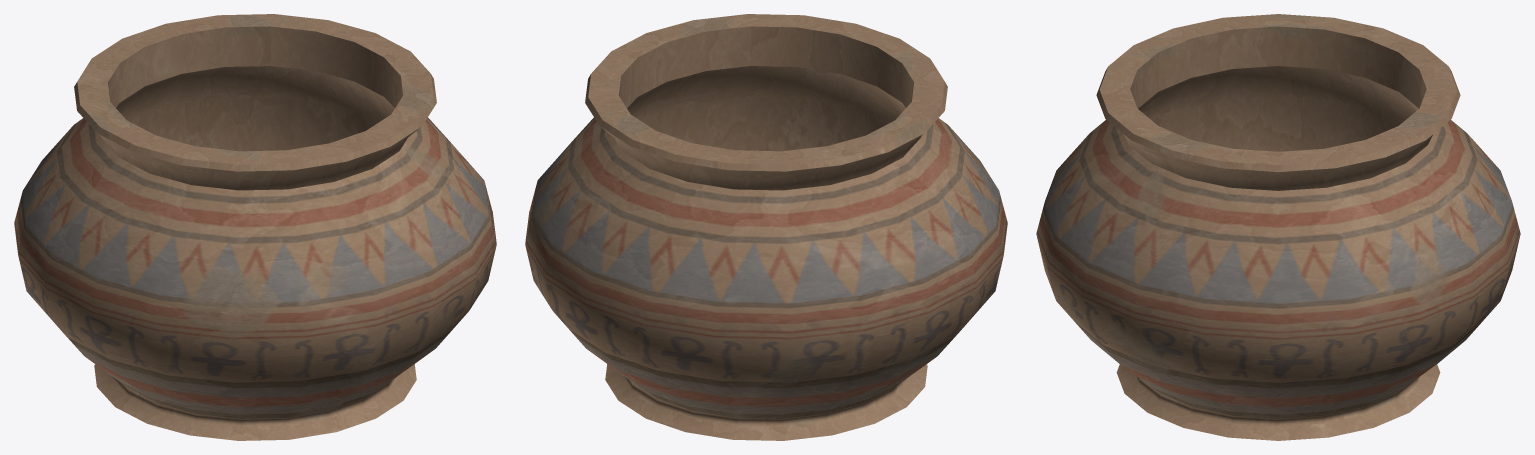
Rendered from POTTERyY.fbx.
3 renders of one model, left to right at view 1: azimuth 30°, elevation 25°; view 2: azimuth 150°, elevation 25°; view 3: azimuth 270°, elevation 25°, orthographic.
Parts seen in each view (by area): view 1: pCylinder2; view 2: pCylinder2; view 3: pCylinder2.
Boxes of the visible parts, x1=… form: pCylinder2: x1=14, y1=14, x2=496, y2=440; pCylinder2: x1=525, y1=14, x2=1007, y2=440; pCylinder2: x1=1036, y1=14, x2=1520, y2=440.
Bounding box in the file's own units: 37.84 × 25.02 × 37.84.
1 material, 1 textured.
